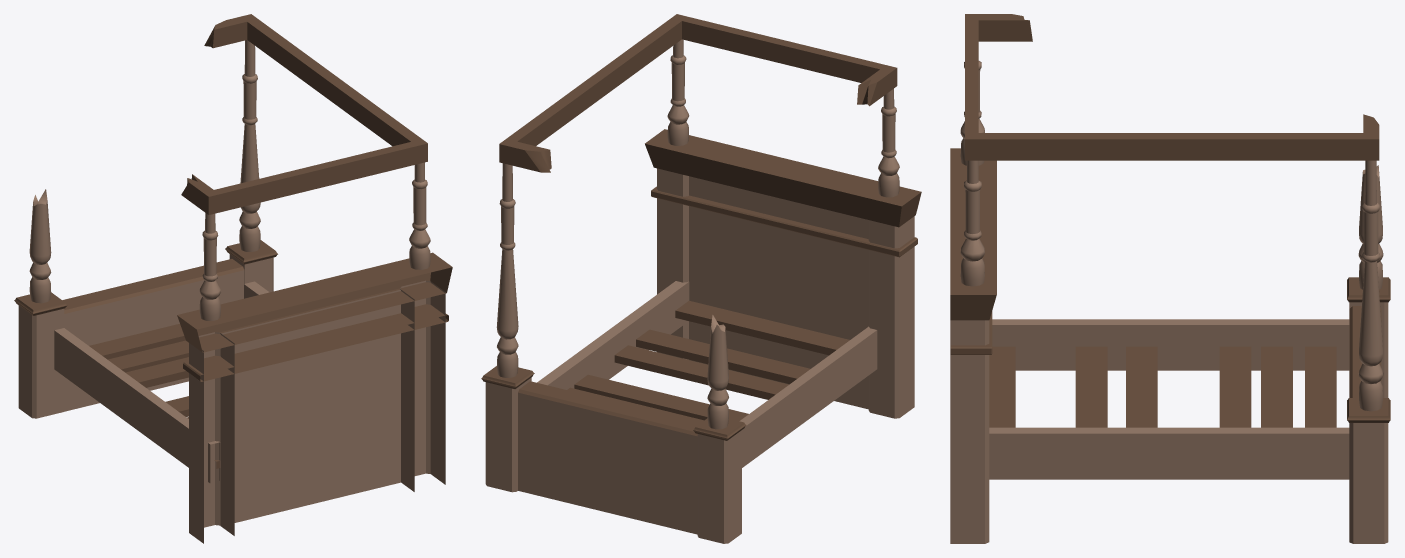
The model's file is Bed.fbx.
3 renders of one model, left to right at view 1: azimuth 30°, elevation 25°; view 2: azimuth 150°, elevation 25°; view 3: azimuth 270°, elevation 25°, orthographic. The views are drawn at different scales.
Visible parts, largest first — view 1: Bed; view 2: Bed; view 3: Bed.
Part boxes in pixels (x1,y1,x2,y2): Bed: (14,14,452,543); Bed: (481,14,921,543); Bed: (950,14,1390,543).
Size of the model in its own units: 475 by 602 by 604.
